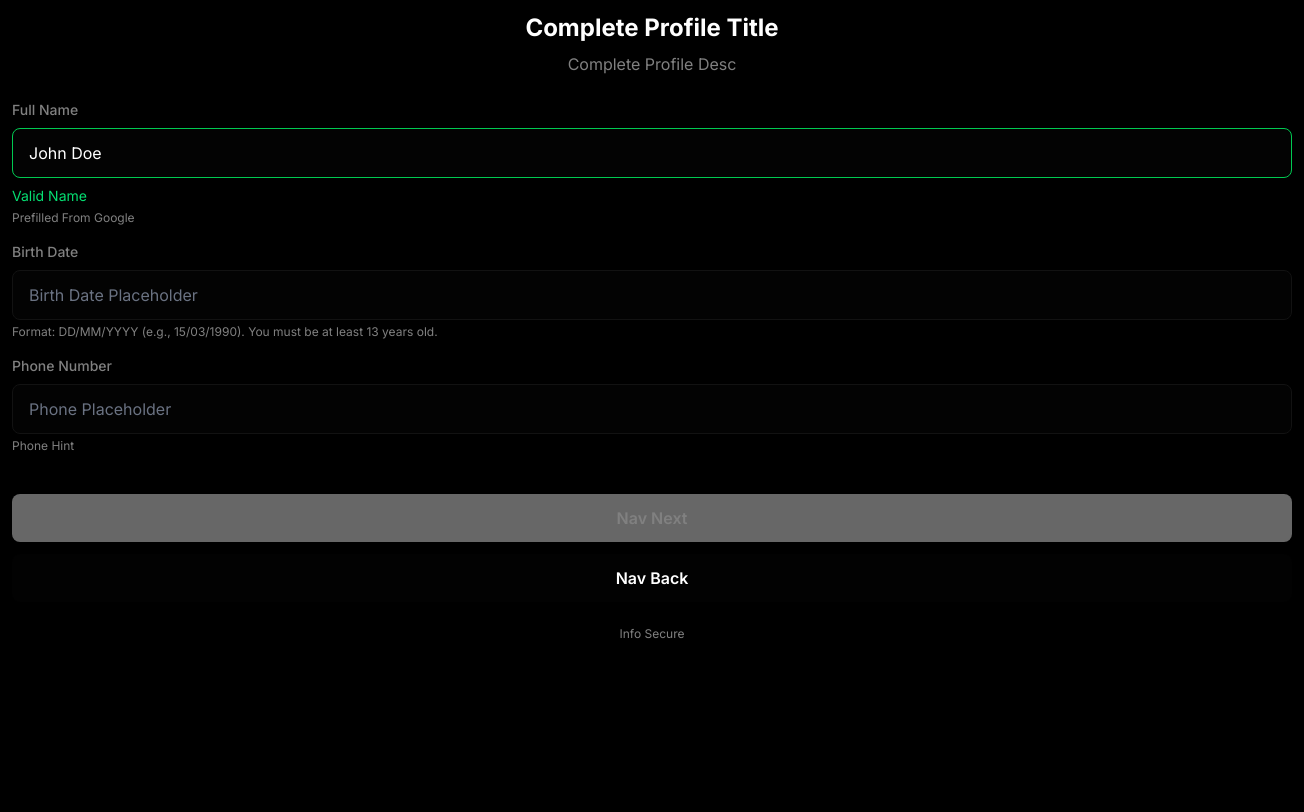
GoogleOAuthPersonalInfo › Full Name Validation › should show error when name is less than 2 characters
Replace the text in the field labelled "Full Name" with "J": (652, 153) left=12, top=128, right=1292, bottom=178
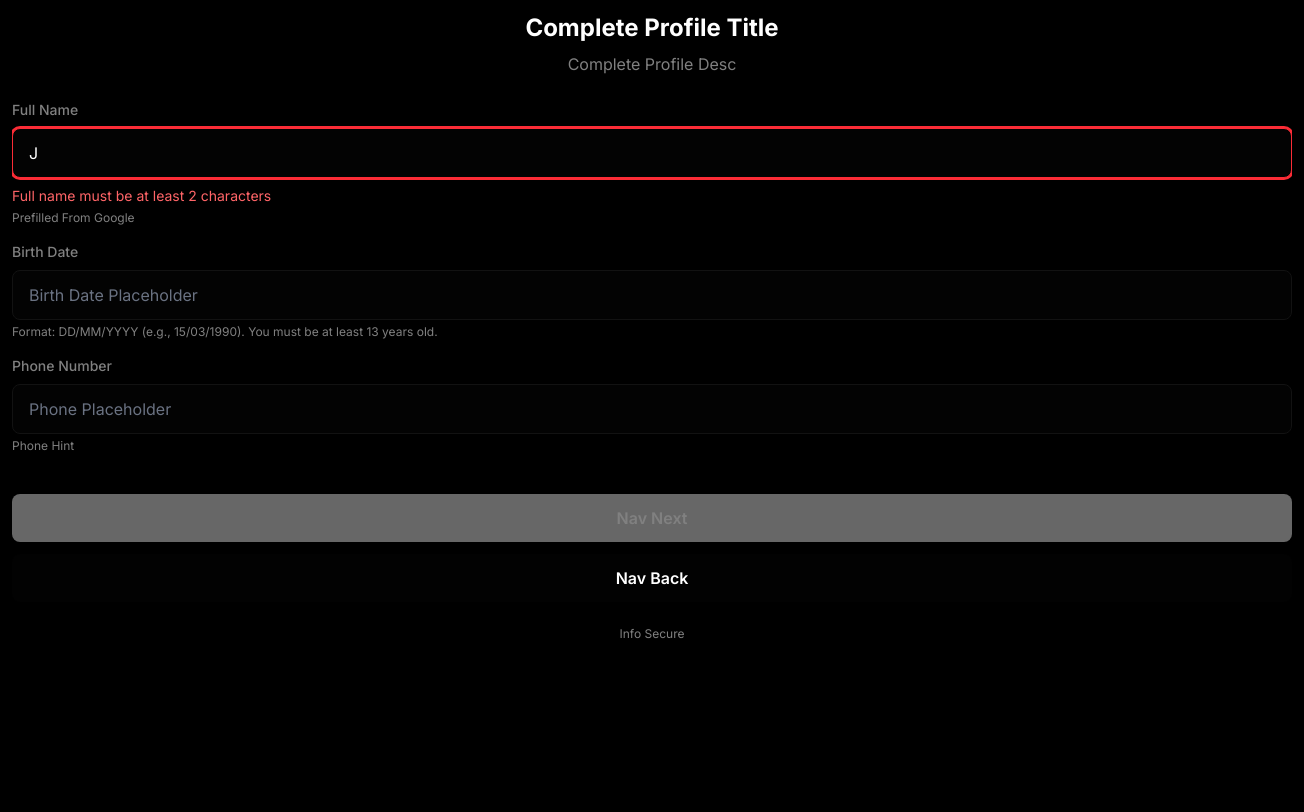
expect the text "Full name must be at least 2 characters" is shown: met, box left=12, top=187, right=271, bottom=204
